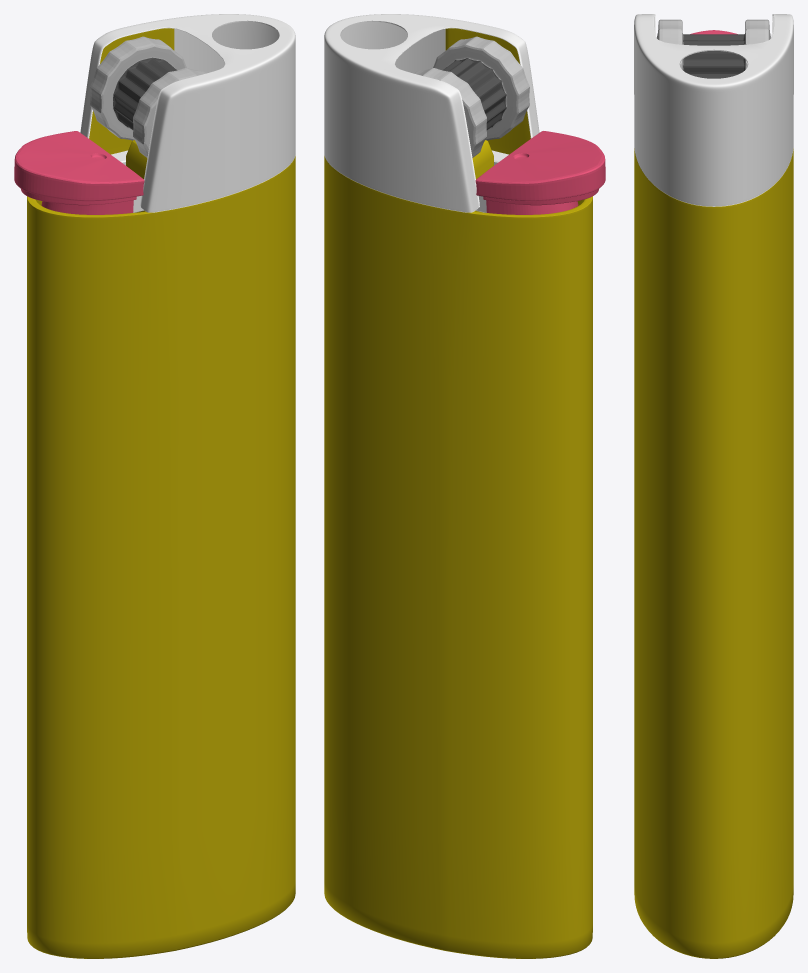
The model's file is Lighter.glb.
3 views of the same model, side by side, from view 1: azimuth 30°, elevation 25°; view 2: azimuth 150°, elevation 25°; view 3: azimuth 270°, elevation 25° (orthographic).
Parts seen in each view (by area): view 1: Tank, Guard, LeverHandle, Weel; view 2: Tank, Guard, LeverHandle, Weel; view 3: Tank, Guard, Weel.
Boxes of the visible parts, x1,y1,x2,y2 form: Tank: (27,28,295,958); Guard: (80,14,295,212); LeverHandle: (14,131,144,214); Weel: (90,36,205,157); Tank: (324,28,592,958); Guard: (324,14,539,212); LeverHandle: (475,131,605,214); Weel: (414,36,529,157); Tank: (634,148,793,958); Guard: (634,14,793,206); Weel: (656,19,771,78).
Size of the model in its own units: 2.61 by 7.97 by 1.32.
